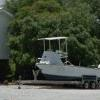Boat: (30, 34, 100, 86)
